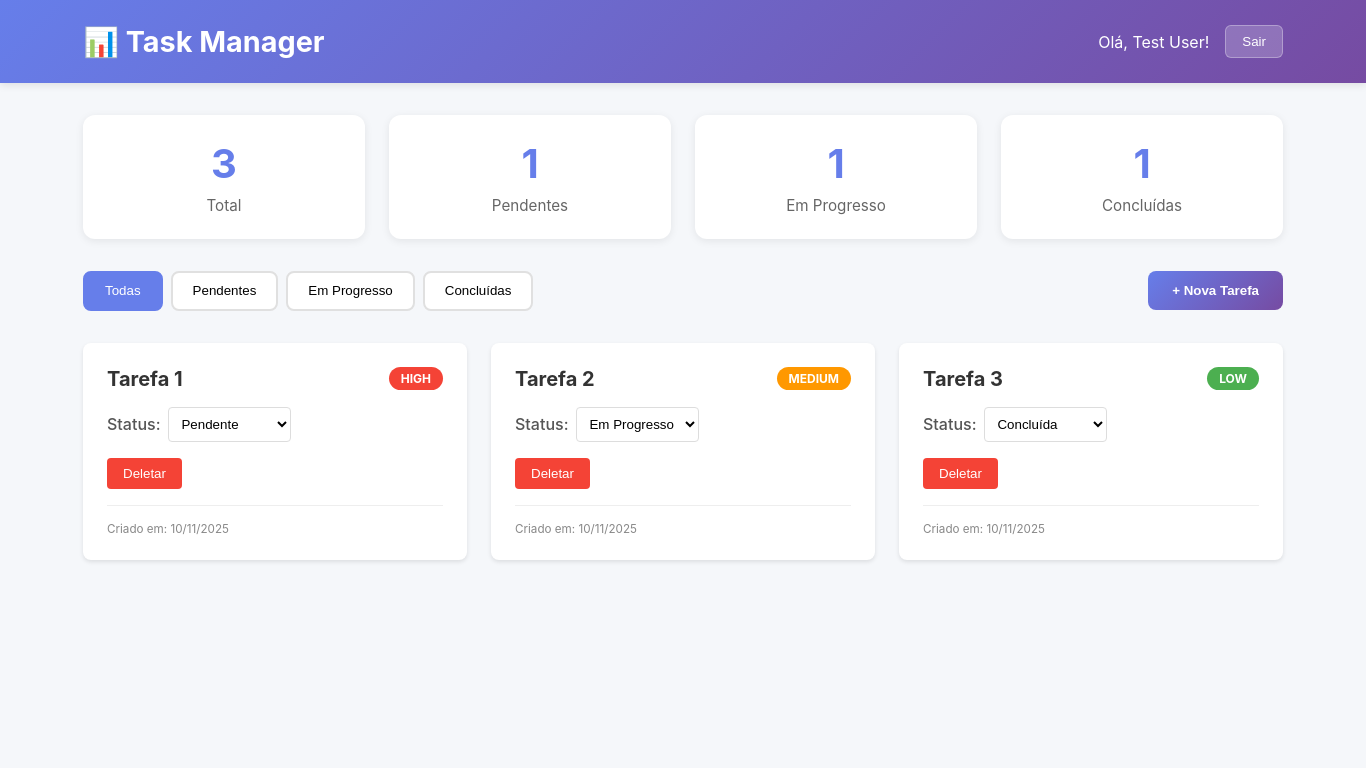
Dashboard Page › deve abrir modal de criar tarefa
The width and height of the screenshot is (1366, 768).
Click the button with test id "create-task-button".
click(1216, 291)  # box [1148,271,1283,310]
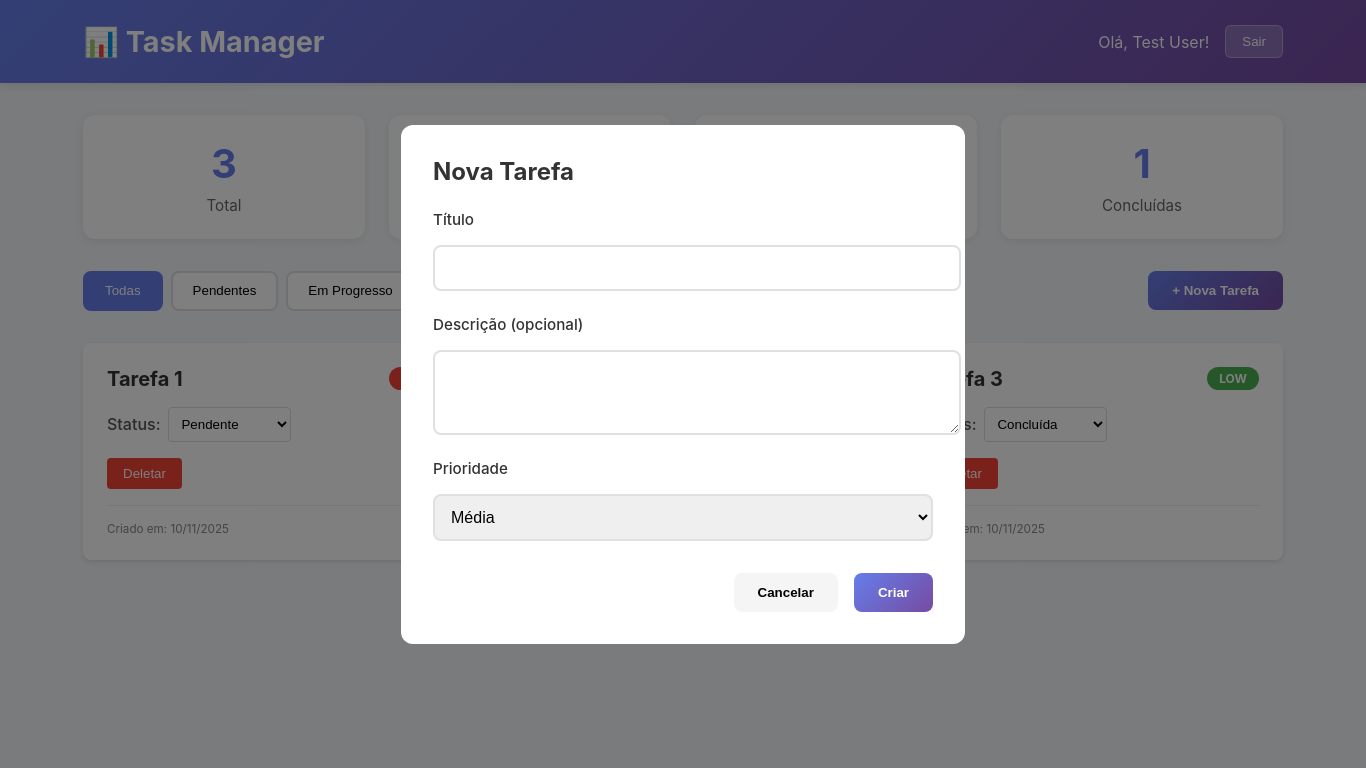
Expected: the element with test id "create-modal" is shown
Expected: the heading "Nova Tarefa" is shown, [433,156,574,186]
